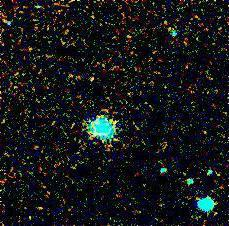star: (79, 63, 109, 93)
